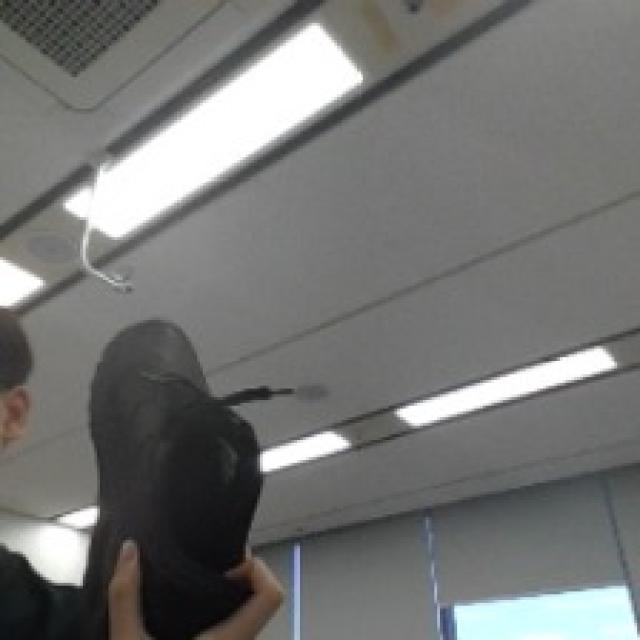shoe: (37, 280, 294, 631)
